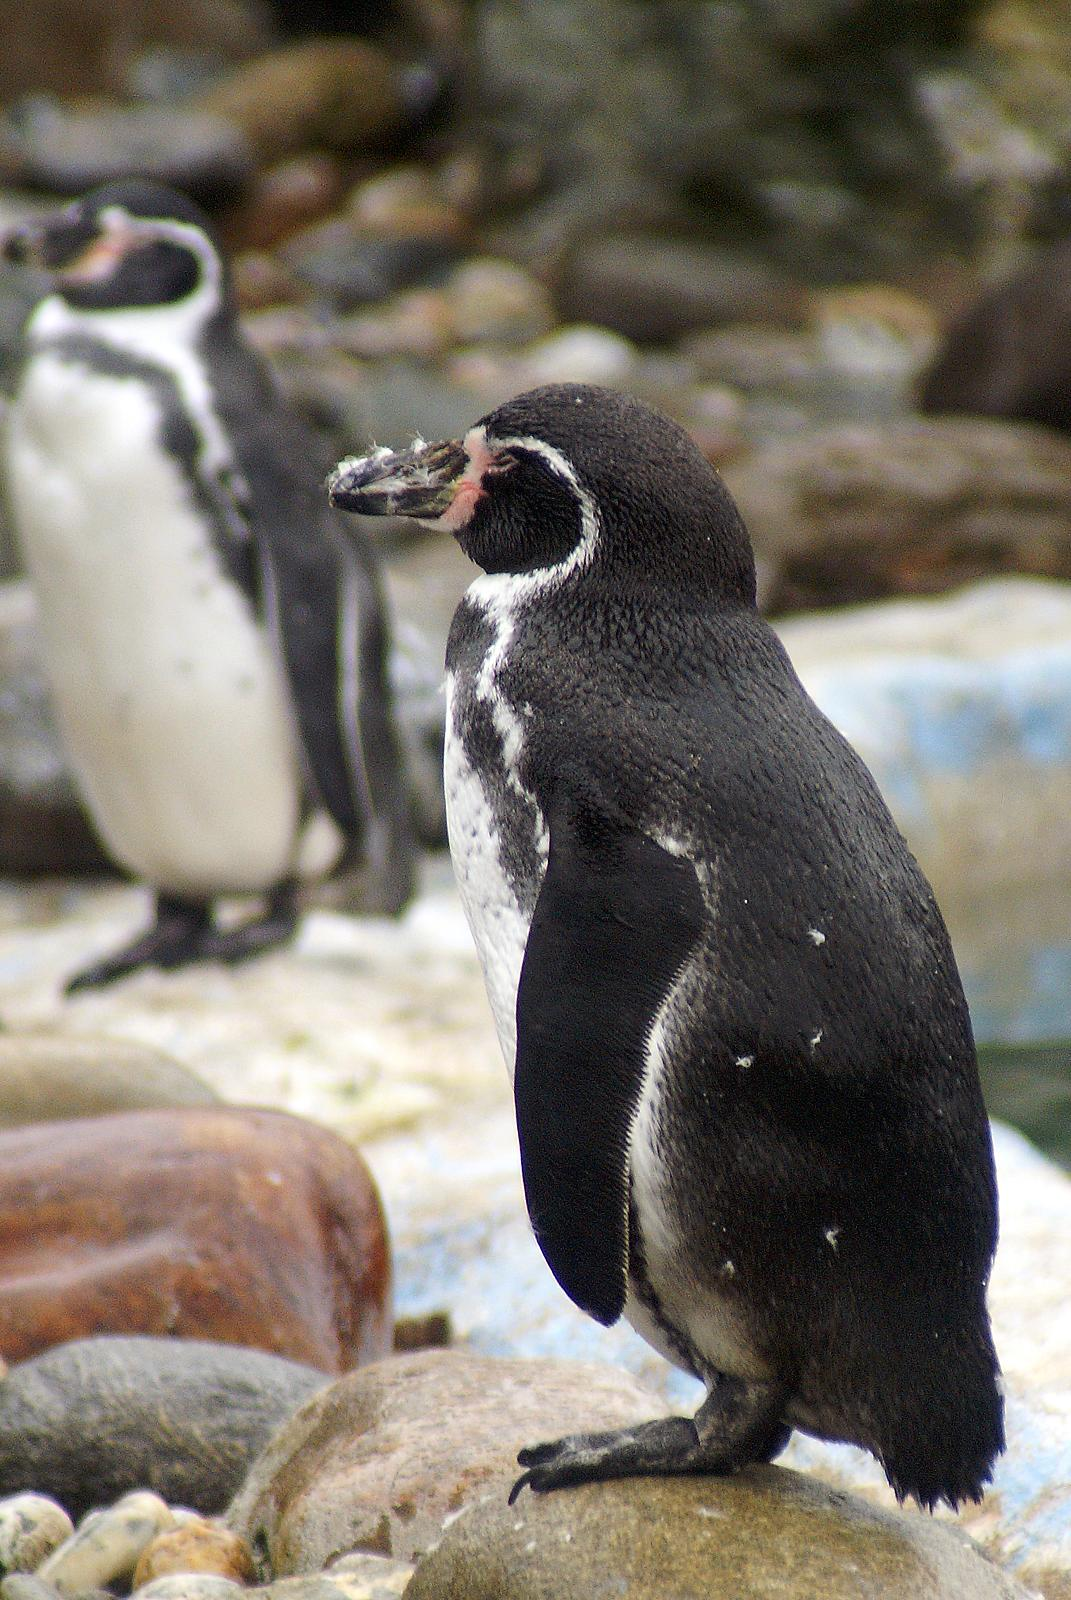penguin: (337, 379, 1024, 1501)
